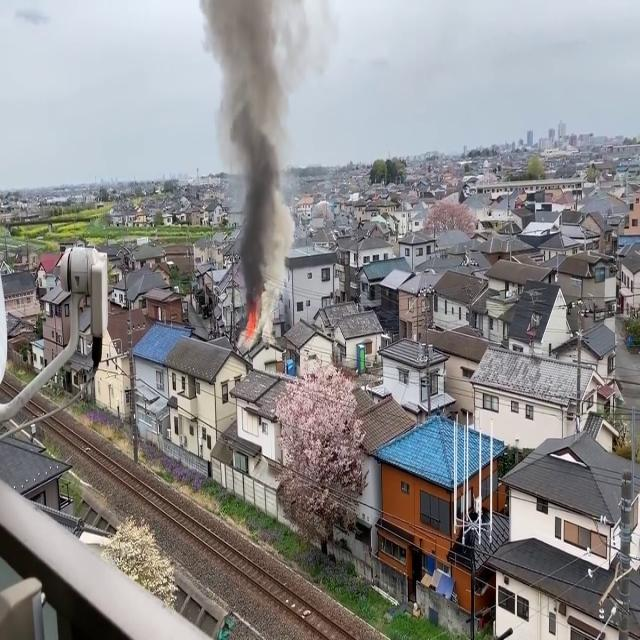Fire: (241, 303, 260, 348)
Smoke: (202, 0, 302, 317)
